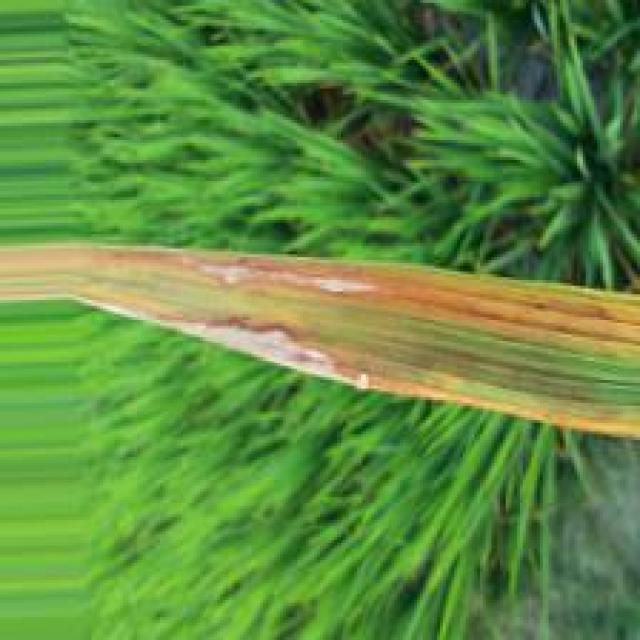Bacterial_Leaf_Blight: (73, 243, 640, 445)
